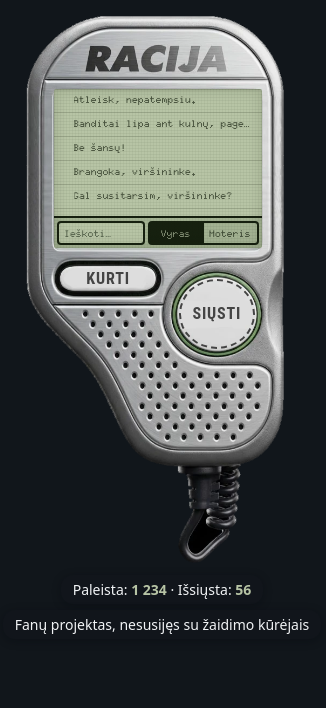
Test case: Radio › share › shared: counts, toasts, refocuses SIŲSTI
Click the option "Atleisk, nepatempsiu." at [158, 101], box [54,89,262,113]
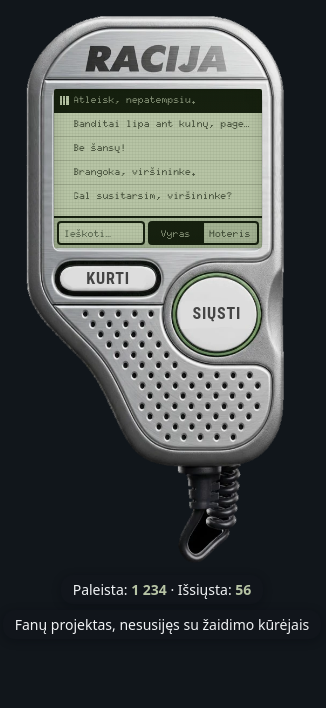
Click the button with class "skey" showing "SIŲSTI" at [217, 315], box [173,273,261,356]
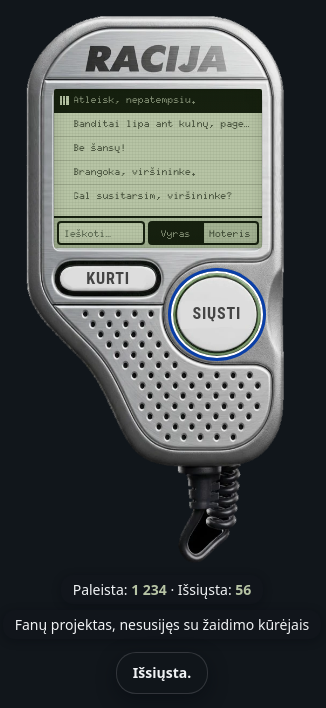
Expected: the text with class "toast" reads "Išsiųsta.", [133,663,191,682]
